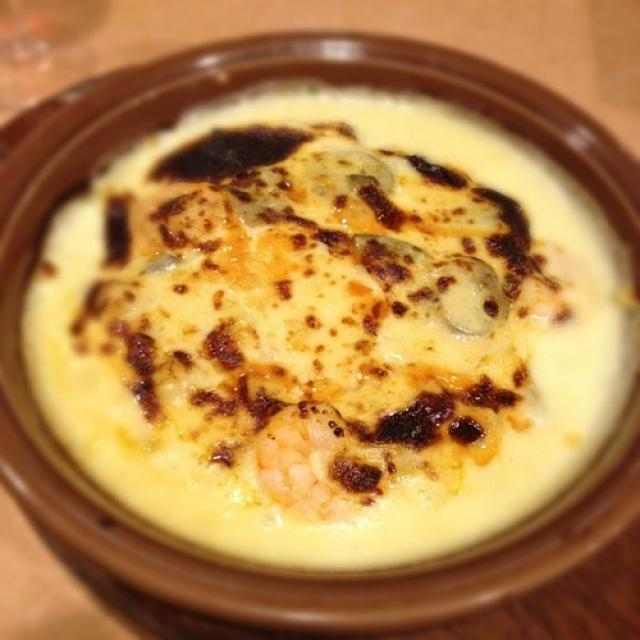米饭主食: (19, 52, 621, 594)
